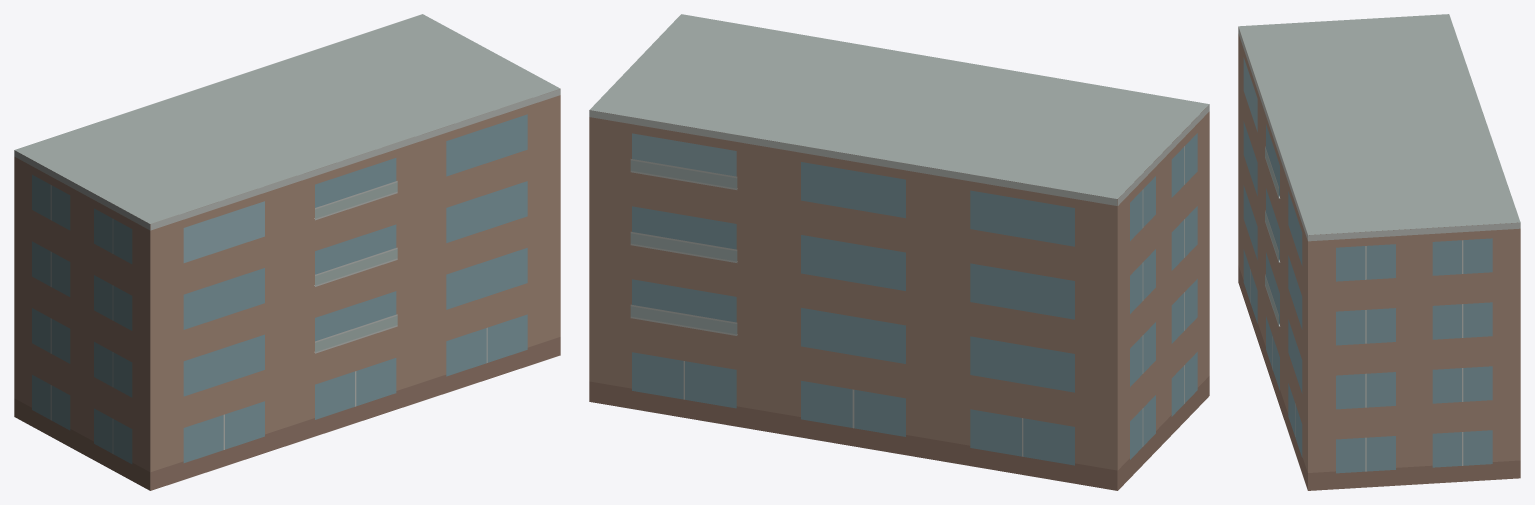
File: survey-upis-33046226.glb
3 views of the same model, side by side, from view 1: azimuth 30°, elevation 25°; view 2: azimuth 150°, elevation 25°; view 3: azimuth 270°, elevation 25° (orthographic). The views are drawn at different scales.
Parts seen in each view (by area): view 1: survey-upis-33046226.tmp; view 2: survey-upis-33046226.tmp; view 3: survey-upis-33046226.tmp.
Boxes of the visible parts, x1=… form: survey-upis-33046226.tmp: x1=14, y1=14, x2=560, y2=490; survey-upis-33046226.tmp: x1=589, y1=14, x2=1209, y2=490; survey-upis-33046226.tmp: x1=1238, y1=14, x2=1520, y2=490.
Size of the model in its own units: 18.74 by 10.1 by 10.12.
